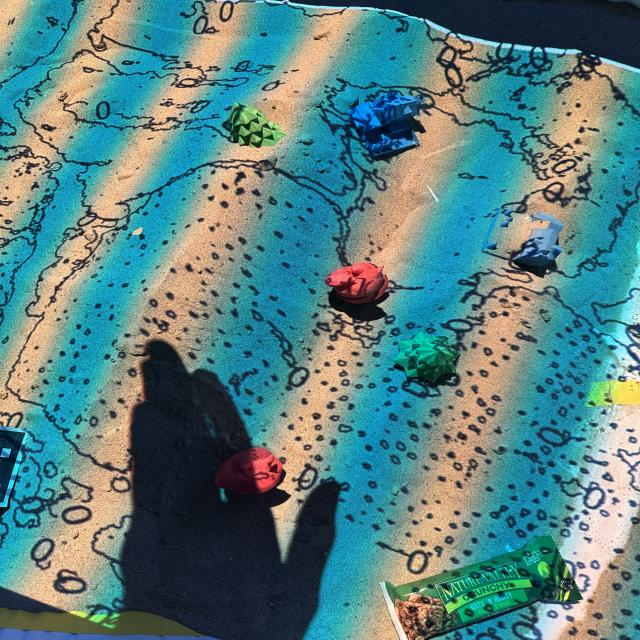fire: (218, 447, 285, 496), (324, 262, 390, 304)
house: (349, 91, 423, 159), (478, 211, 565, 265)
tree: (394, 329, 459, 384), (228, 101, 286, 148)
